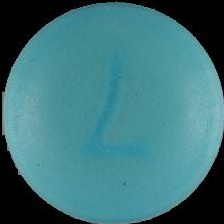50436-0302: (0, 0, 224, 224)
